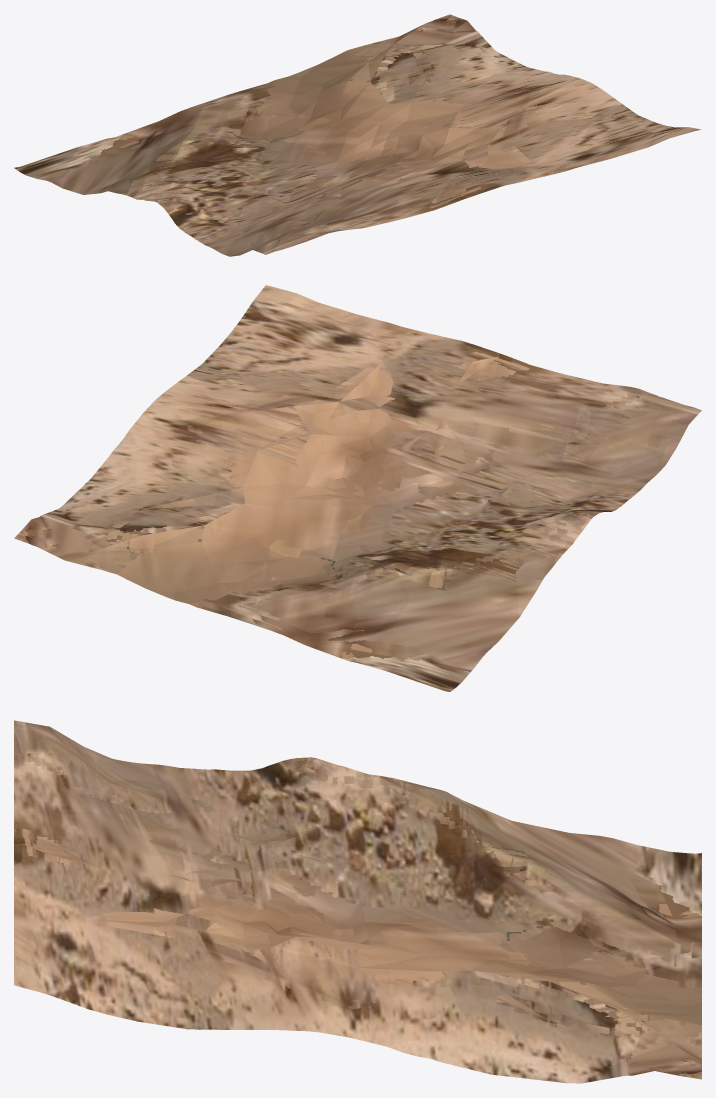
3 renders of one model, top to bottom at view 1: azimuth 30°, elevation 25°; view 2: azimuth 150°, elevation 25°; view 3: azimuth 270°, elevation 25°, orthographic. The views are drawn at different scales.
Size of the model in its own units: 1.04 by 0.2669 by 1.04.
Materials: 3 (3 with a texture image).
